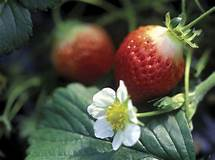Fresa: (112, 19, 188, 107)
